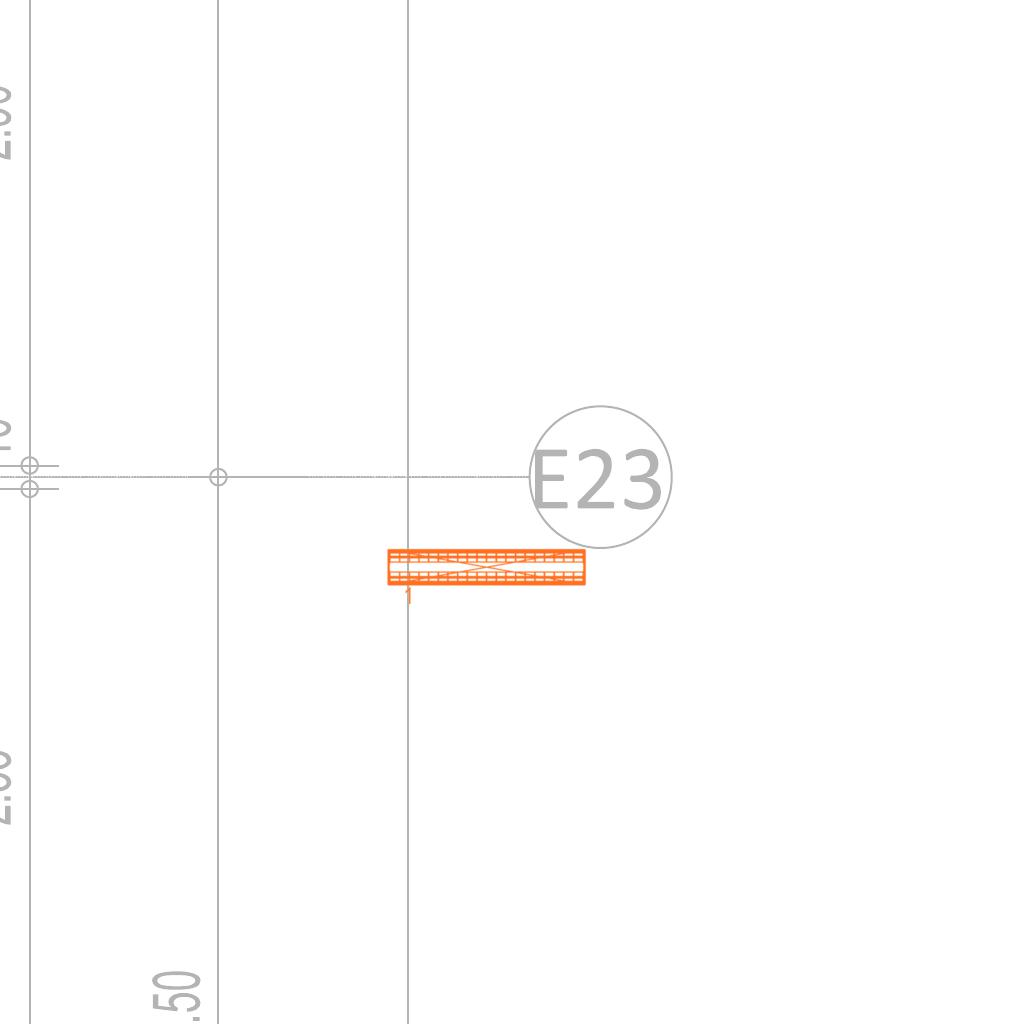Buero_Pendelleuchten_LED: (384, 544, 590, 609)
